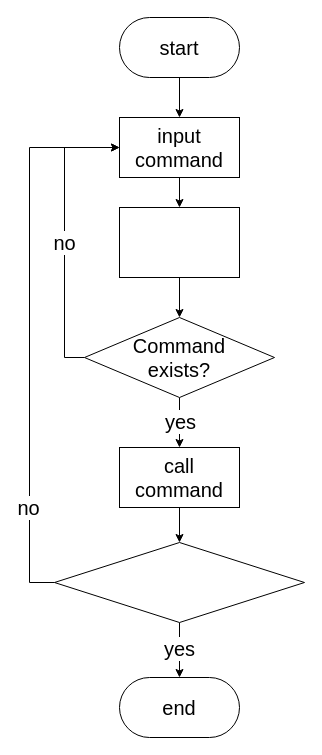
The diagram is 322 pixels wide and 755 high, and some of its shapes have lost their labels. Here are the shapes that lost their labels. From the top down, the centre of each, then its label:
pixel 179 242: get command from root
pixel 179 582: Command stops cli?
